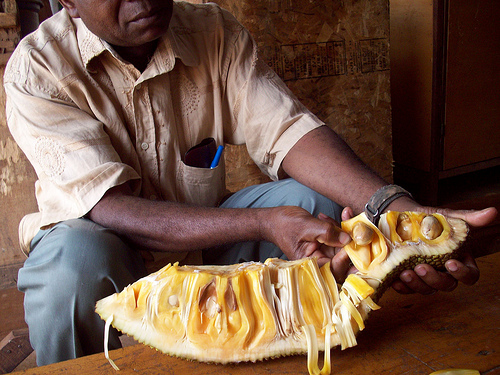jackfruit: (93, 204, 470, 374)
